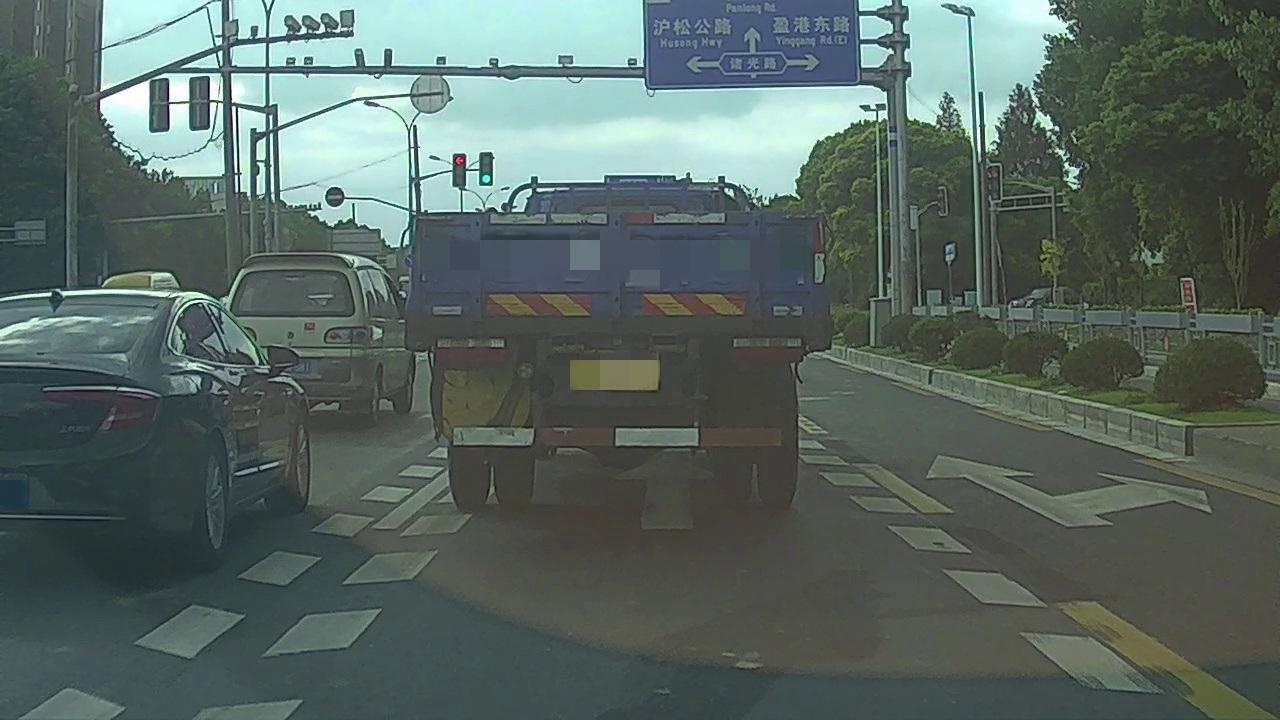traffic_light: (480, 152, 492, 186), (454, 155, 465, 188)
